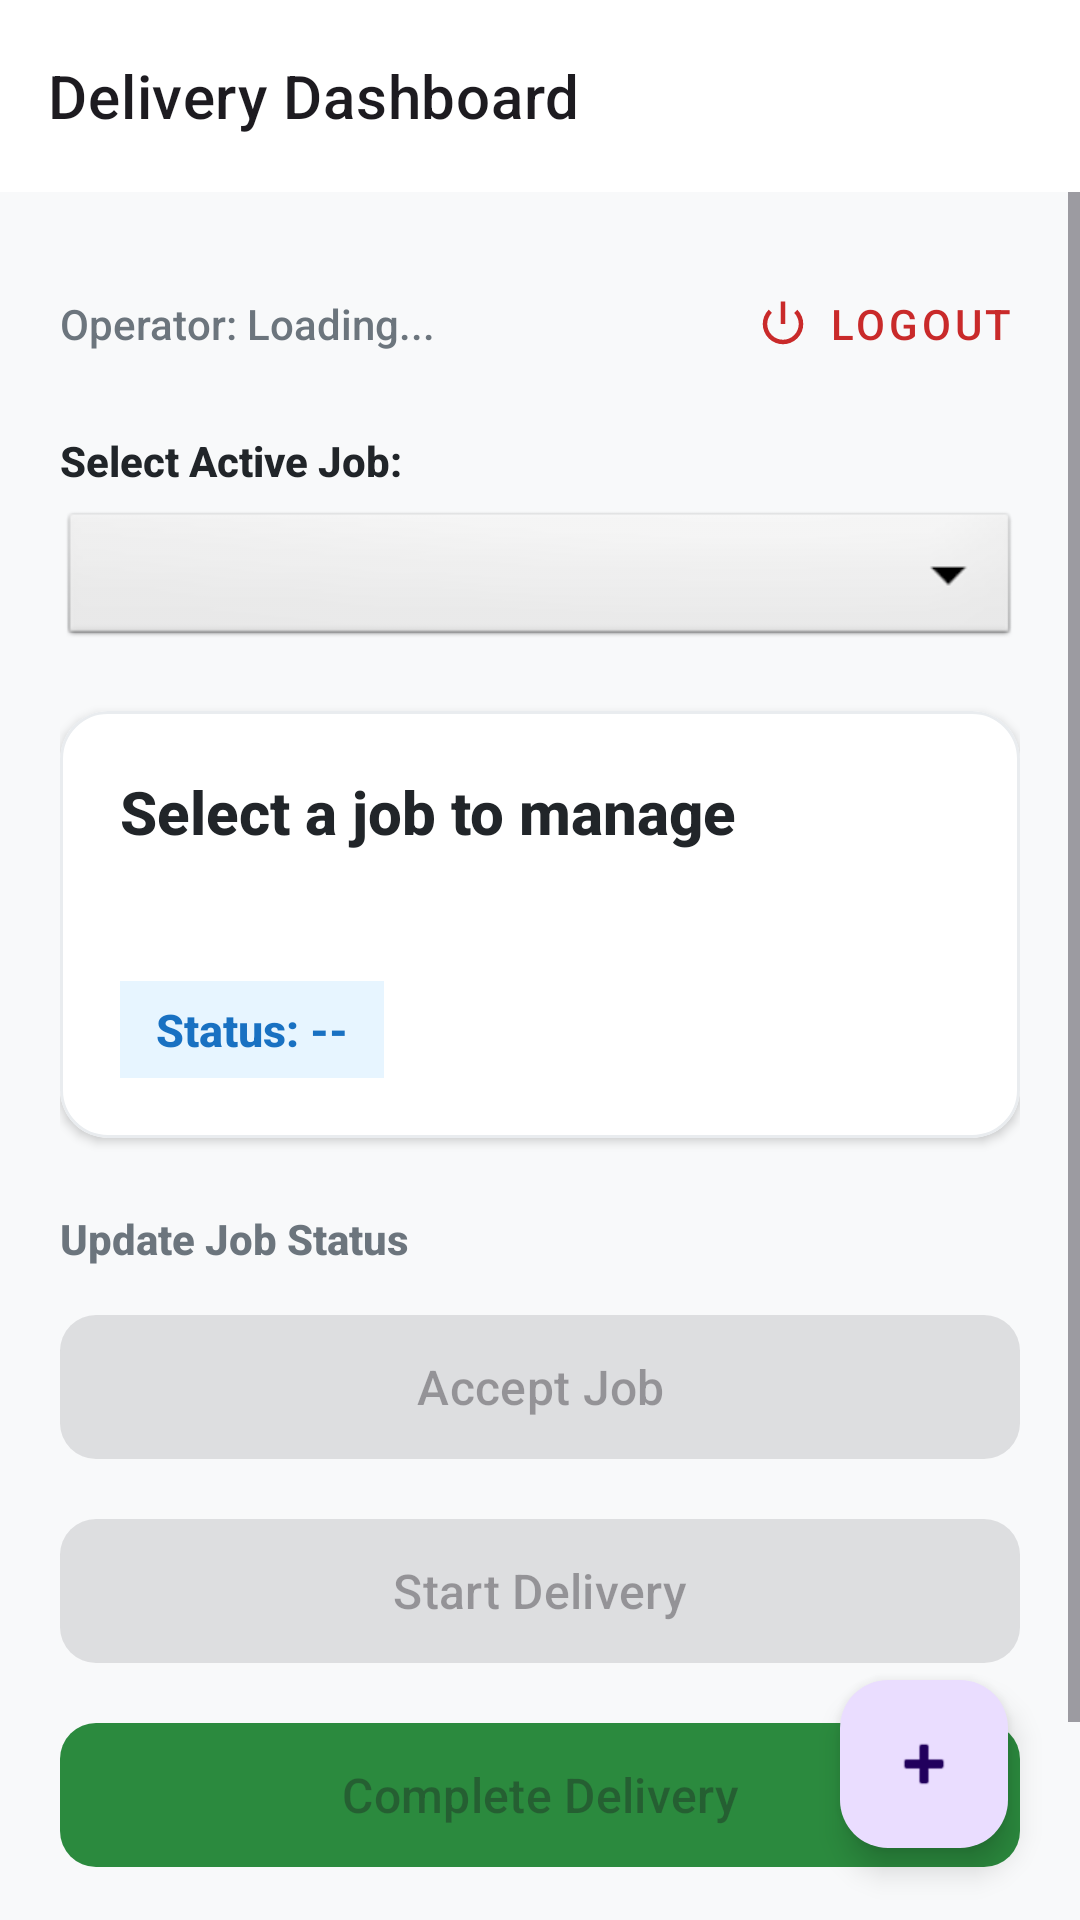

Named icons in this screenshot (1080w x 1920h) and their centers, (x=x, y=y):
Create New Job: (x=924, y=1764)
